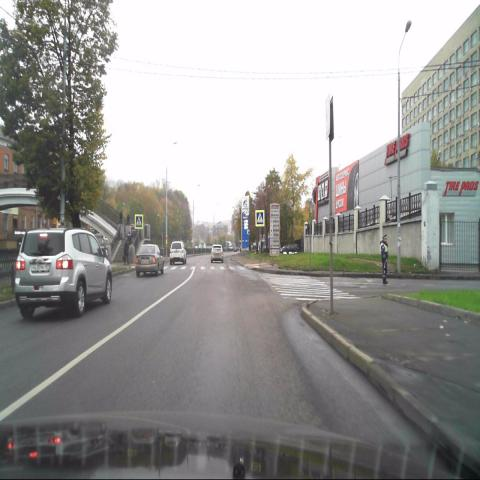5_19_1: (255, 209, 265, 227), (134, 213, 144, 229)
